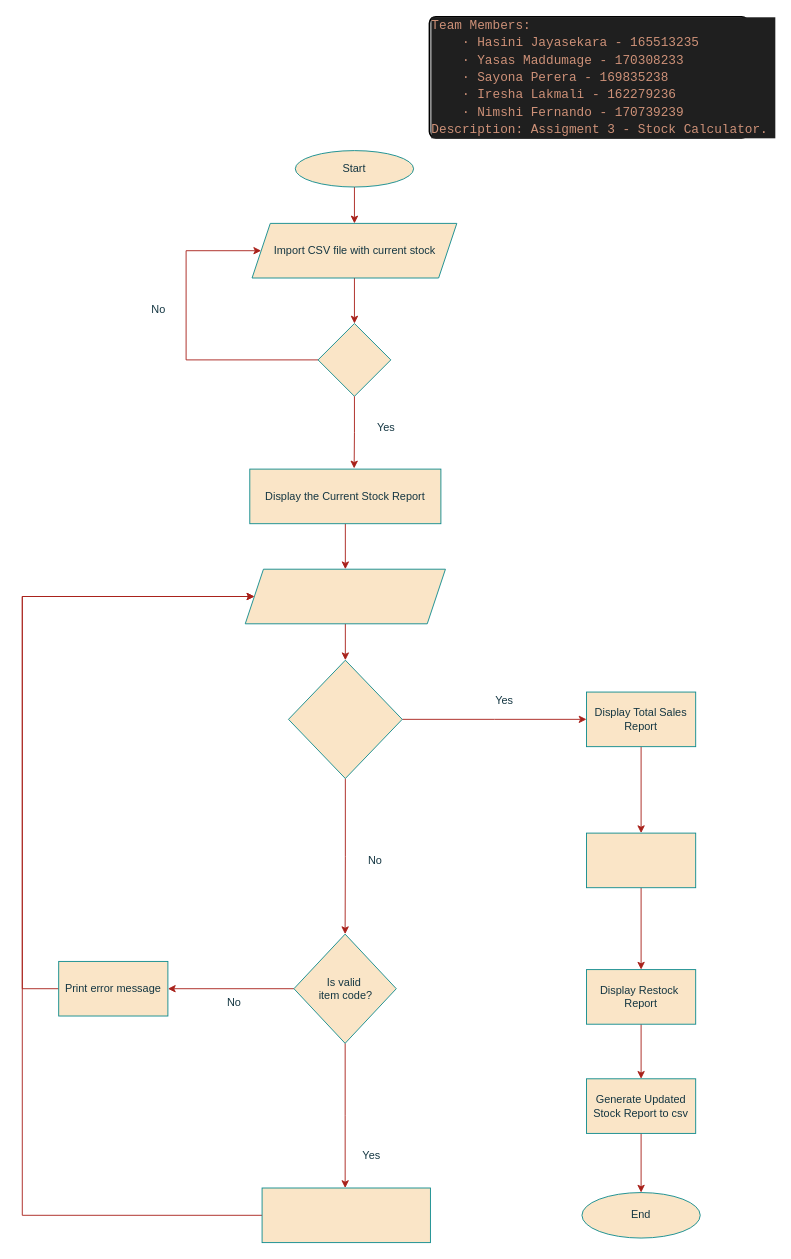
This 791x1259 diagram has some shape labels left out. Each missing label, with the centre of its shape:
"Display Lost Sales Report" belongs at (641,860).
"Enter a number to indicate a sale or e" belongs at (344,596).
"Is the value 'e'" belongs at (345,719).
"Is valid CSV?" belongs at (354,359).
"Update stock count" belongs at (345,1215).
